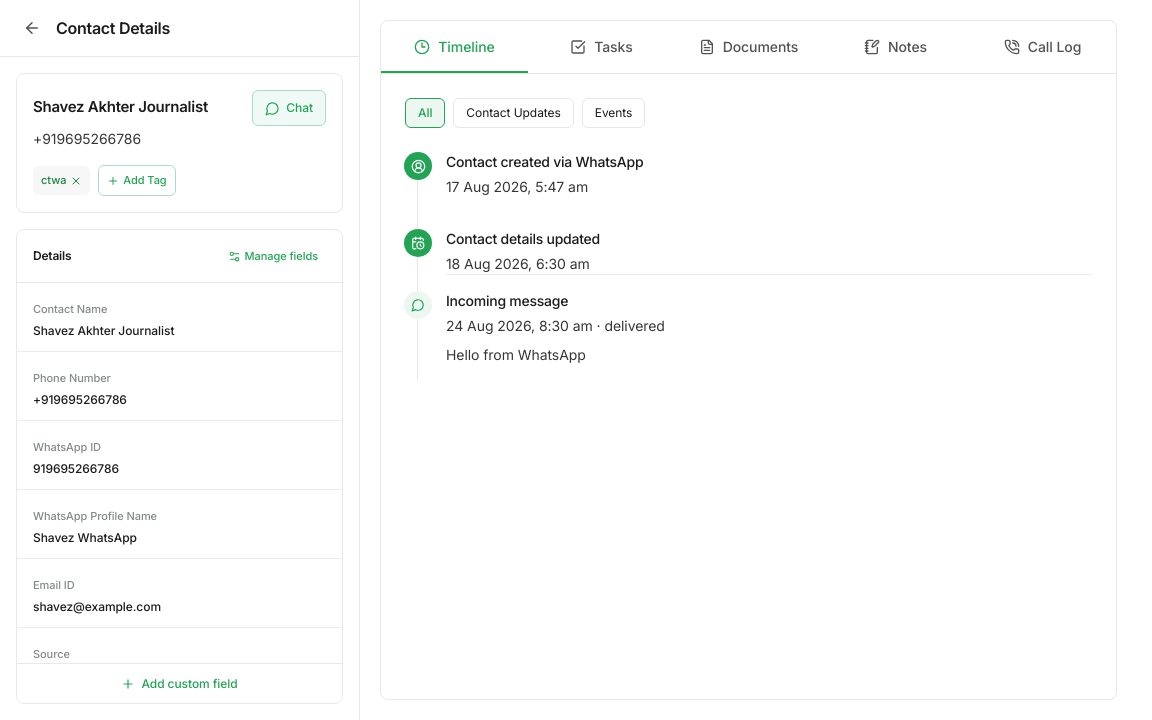
Test case: ContactDetails › offers separate chat and uploaded document views
Check: the heading "Shavez Akhter Journalist" is shown, box left=33, top=97, right=208, bottom=116
Click the button "Documents". click: click(748, 47)
box: left=675, top=21, right=822, bottom=73
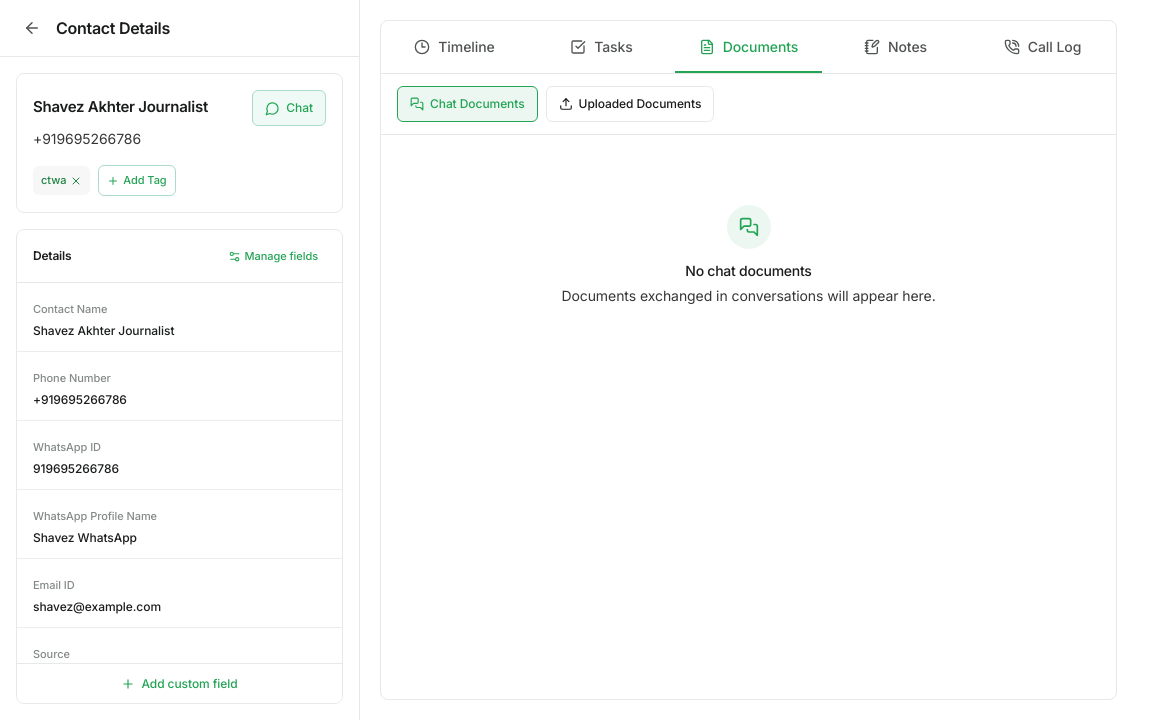
Check: the button "Chat Documents" is shown, box left=397, top=86, right=538, bottom=122
Check: the heading "No chat documents" is shown, box left=685, top=260, right=812, bottom=280
Click the button "Uploaded Documents". click: click(630, 104)
box: left=546, top=86, right=714, bottom=122
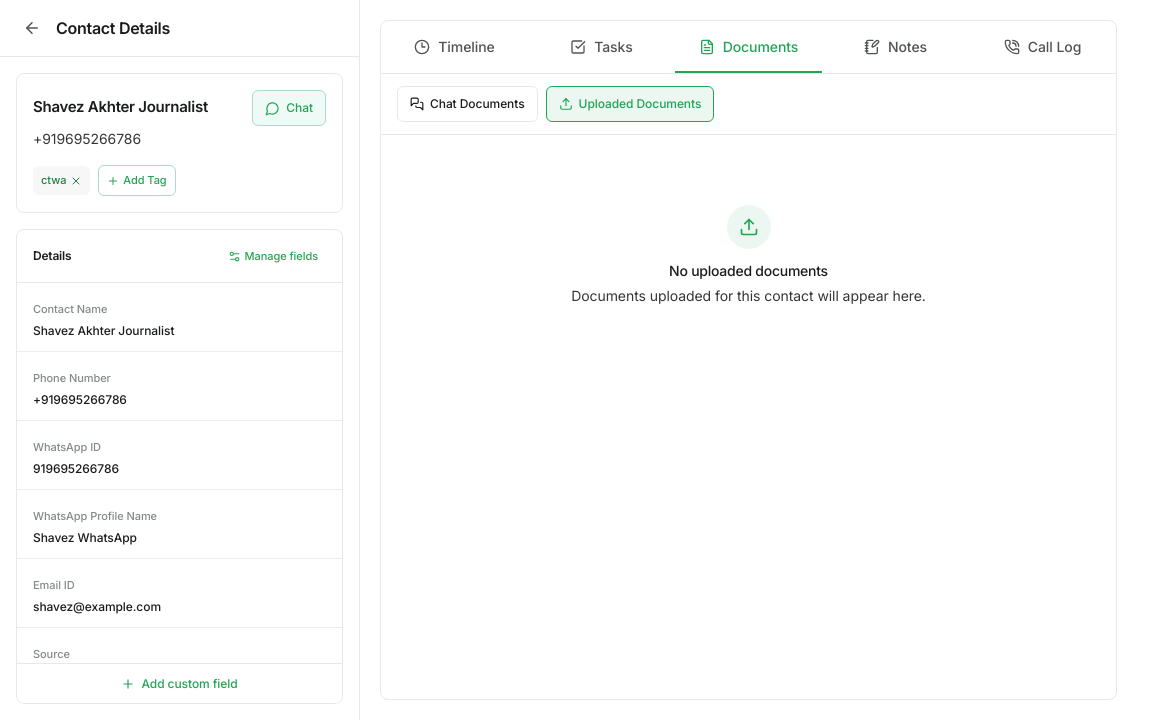
Check: the heading "No uploaded documents" is shown, box left=669, top=260, right=828, bottom=280
